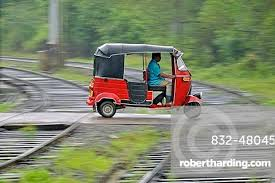tuk tuk: (85, 42, 205, 118)
